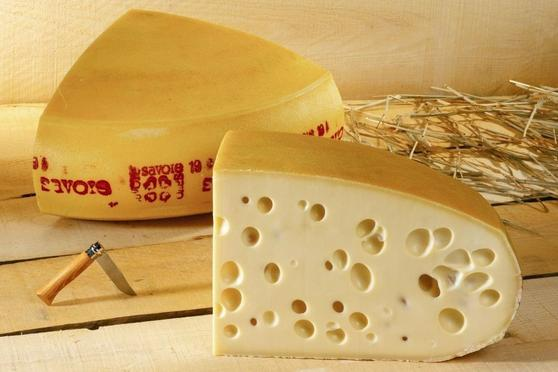cheese: (211, 125, 521, 359)
